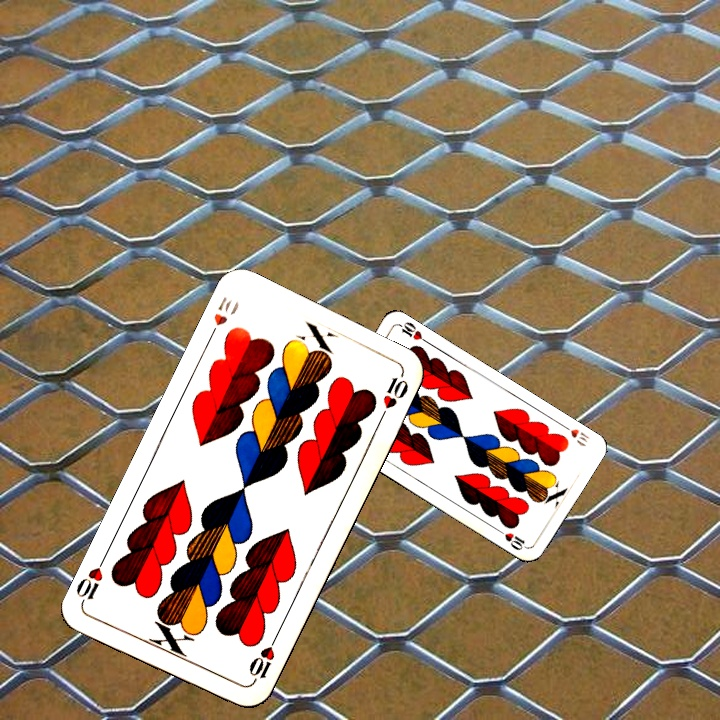H10: (245, 633, 280, 688), (203, 292, 236, 344), (557, 419, 591, 449)
